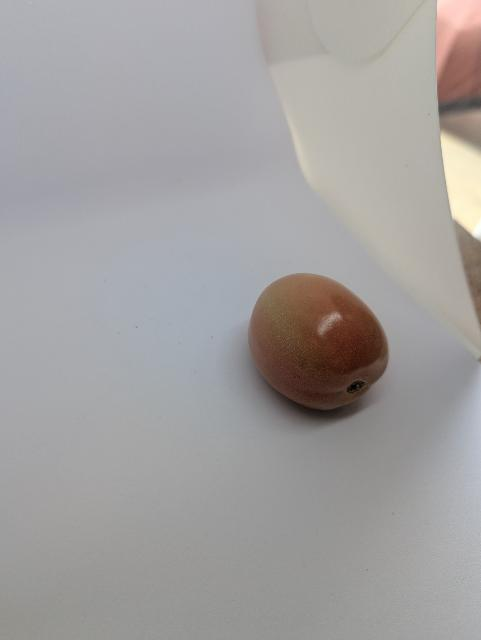turning: (240, 265, 397, 419)
